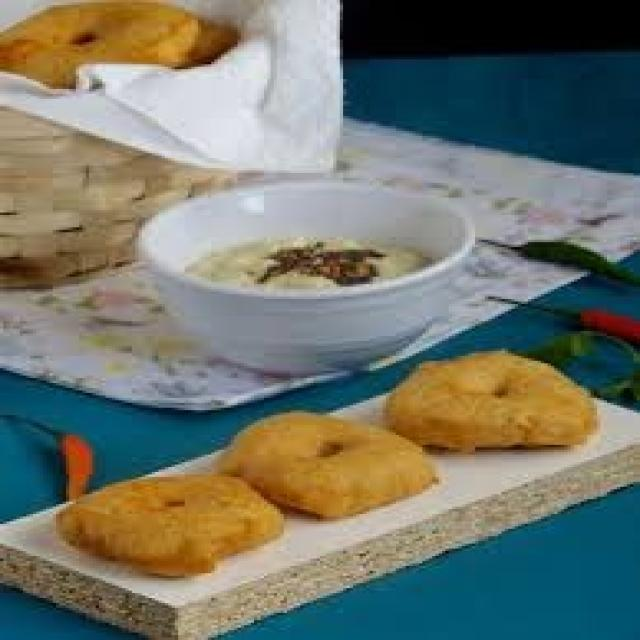medu vadai: (46, 463, 301, 579), (386, 341, 617, 462), (219, 392, 430, 523)
